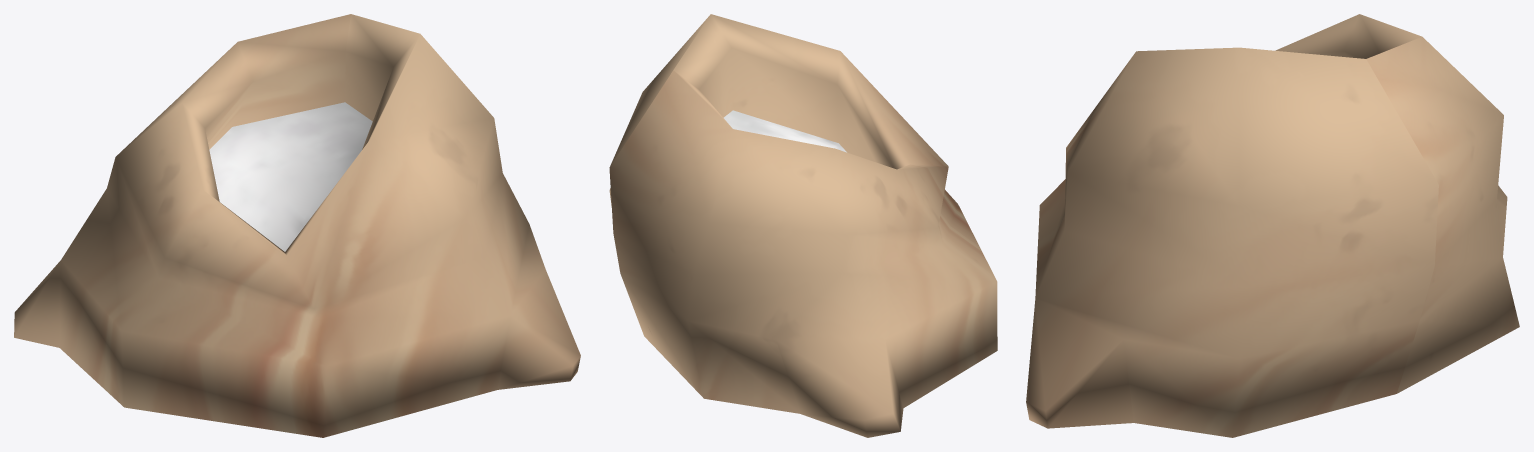
Rendered from SM_PROP_sack_02.glb.
3 renders of one model, left to right at view 1: azimuth 30°, elevation 25°; view 2: azimuth 150°, elevation 25°; view 3: azimuth 270°, elevation 25°, orthographic. The views are drawn at different scales.
Visible parts, largest first — view 1: SM_PROP_sack_02_EXPORT; view 2: SM_PROP_sack_02_EXPORT; view 3: SM_PROP_sack_02_EXPORT.
Boxes of the visible parts, x1,y1,x2,y2 form: SM_PROP_sack_02_EXPORT: [14, 14, 580, 437]; SM_PROP_sack_02_EXPORT: [609, 14, 997, 437]; SM_PROP_sack_02_EXPORT: [1026, 14, 1519, 437].
Bounding box in the file's own units: 0.7005 × 0.493 × 0.6272.
2 materials, 2 textured.
